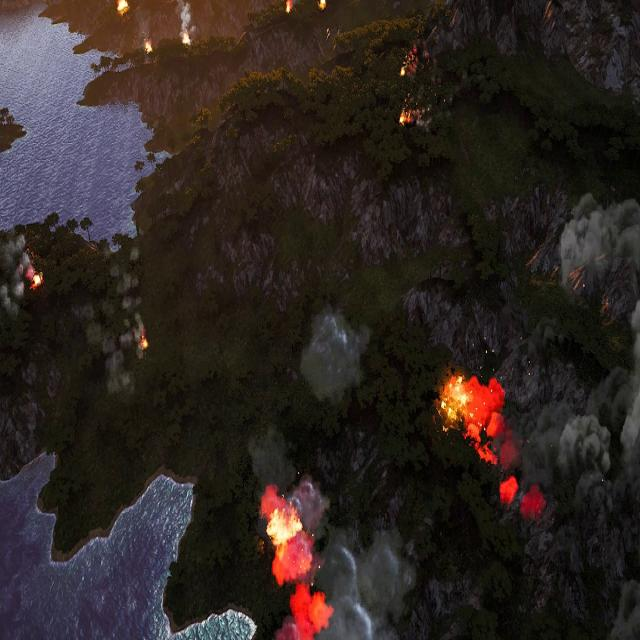fire: (440, 370, 504, 442), (263, 494, 305, 552), (400, 100, 424, 128), (400, 49, 419, 78), (28, 267, 43, 292), (139, 332, 149, 354), (116, 0, 128, 16), (182, 32, 194, 48), (283, 0, 292, 19), (145, 40, 152, 52), (320, 0, 328, 10)
smoke: (492, 193, 638, 640), (248, 428, 492, 639), (82, 279, 148, 402), (302, 305, 372, 409), (0, 223, 31, 319), (180, 1, 192, 31)
